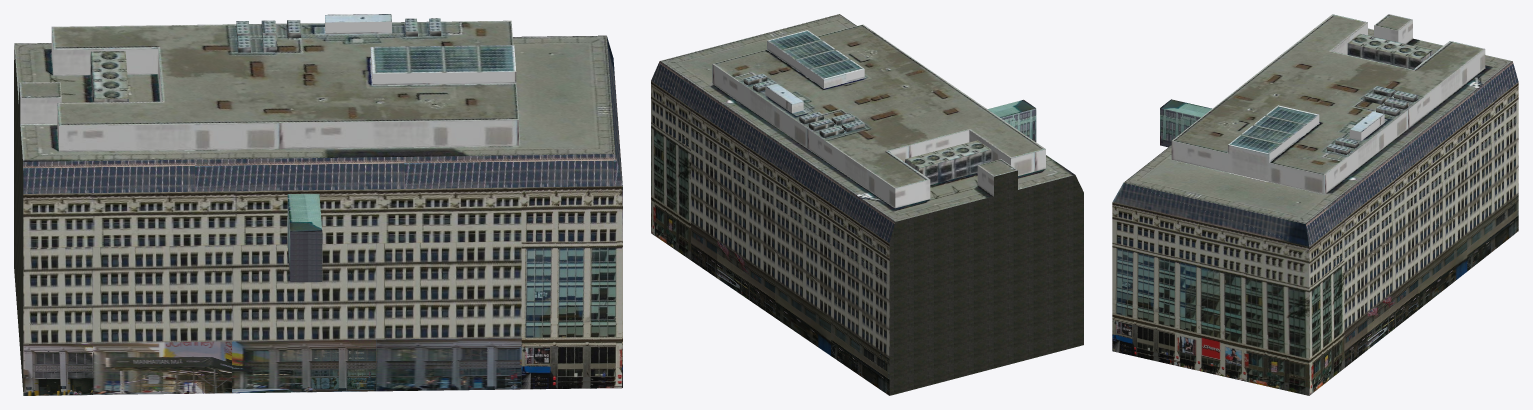
File: 100-west-33rd-street.fbx
The picture shows the model from 3 angles, left to right: view 1: azimuth 30°, elevation 25°; view 2: azimuth 150°, elevation 25°; view 3: azimuth 270°, elevation 25°; orthographic projection. The views are drawn at different scales.
Parts seen in each view (by area): view 1: Model; view 2: Model; view 3: Model.
Boxes of the visible parts, left/top/right/bottom form: Model: left=14, top=14, right=622, bottom=395; Model: left=651, top=14, right=1083, bottom=395; Model: left=1112, top=14, right=1518, bottom=395.
Bounding box in the file's own units: 5417 × 2366 × 4440.
